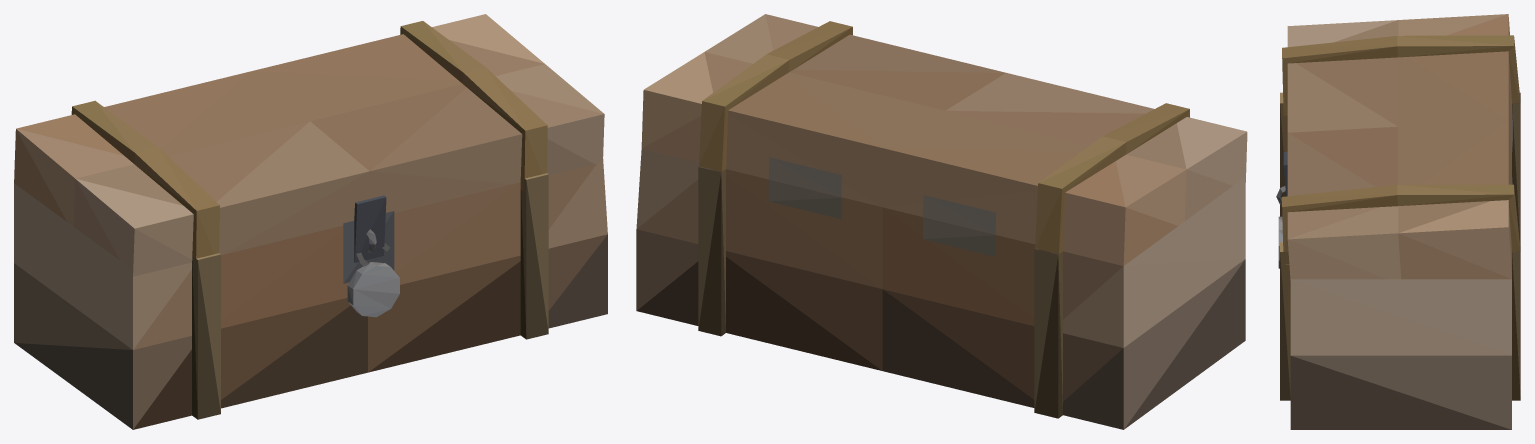
The model's file is prop_container_chest_1_anim.fbx.
3 renders of one model, left to right at view 1: azimuth 30°, elevation 25°; view 2: azimuth 150°, elevation 25°; view 3: azimuth 270°, elevation 25°, orthographic. The views are drawn at different scales.
Parts seen in each view (by area): view 1: chest_bottom_1, chest_top_1; view 2: chest_bottom_1, chest_top_1; view 3: chest_top_1, chest_bottom_1.
Part boxes in pixels (x1,y1,x2,y2): chest_bottom_1: (14, 159, 607, 429); chest_top_1: (14, 14, 604, 276); chest_bottom_1: (636, 148, 1245, 429); chest_top_1: (641, 14, 1247, 265); chest_top_1: (1282, 14, 1519, 280); chest_bottom_1: (1276, 92, 1520, 429).
Size of the model in its own units: 2.28 by 1.02 by 1.1.
